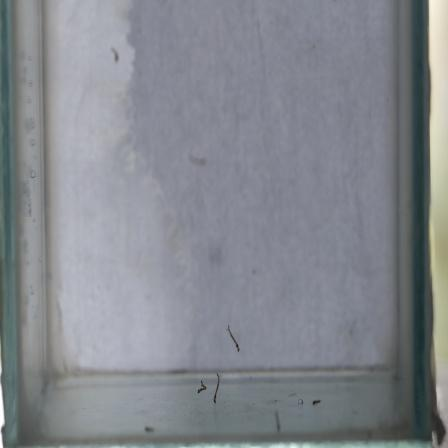Jentik-Nyamuk: (223, 325, 245, 356), (210, 372, 227, 407), (193, 375, 210, 398)
